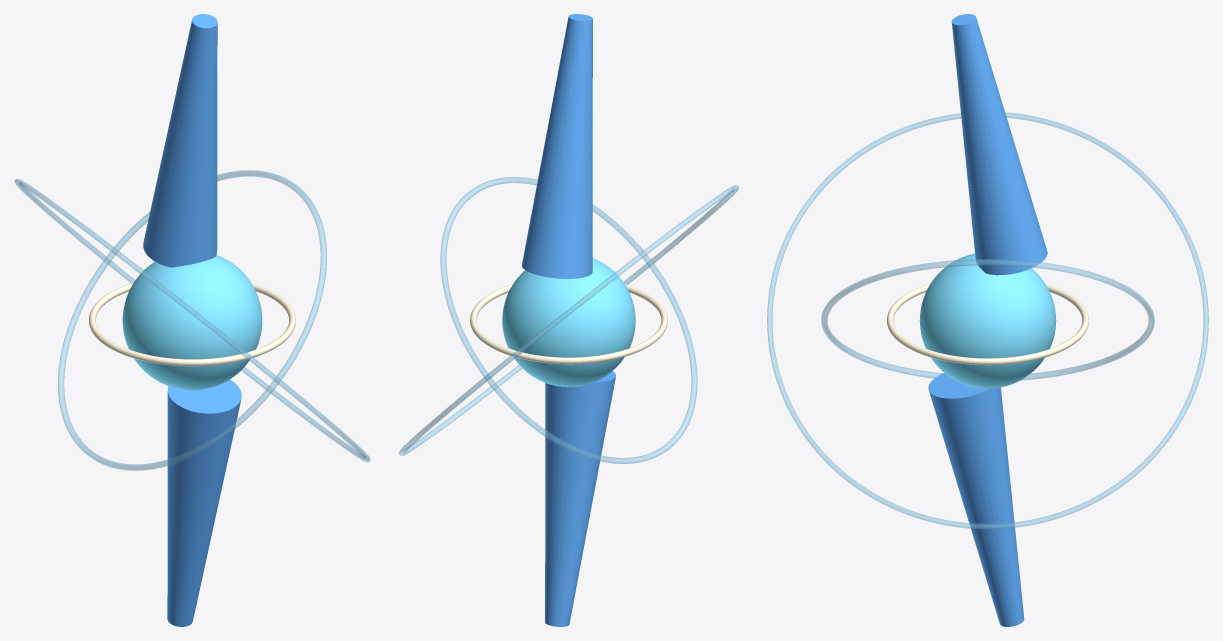
File: space-p1-neutron-star.glb
The picture shows the model from 3 angles, left to right: view 1: azimuth 30°, elevation 25°; view 2: azimuth 150°, elevation 25°; view 3: azimuth 270°, elevation 25°; orthographic projection. The views are drawn at different scales.
Parts seen in each view (by area): view 1: tiny-ultra-dense-neutron-core, north-pulsar-beam, south-pulsar-beam, magnetic-field-loop-one, magnetic-field-loop-two, rapid-spin-equator-ring; view 2: north-pulsar-beam, tiny-ultra-dense-neutron-core, south-pulsar-beam, magnetic-field-loop-one, magnetic-field-loop-two, rapid-spin-equator-ring; view 3: tiny-ultra-dense-neutron-core, north-pulsar-beam, south-pulsar-beam, magnetic-field-loop-two, magnetic-field-loop-one, rapid-spin-equator-ring.
Part boxes in pixels (x1,y1,x2,y2): tiny-ultra-dense-neutron-core: [122, 255, 262, 390]; north-pulsar-beam: [143, 14, 217, 267]; south-pulsar-beam: [167, 379, 241, 626]; magnetic-field-loop-one: [58, 170, 326, 470]; magnetic-field-loop-two: [14, 178, 370, 462]; rapid-spin-equator-ring: [89, 282, 295, 366]; north-pulsar-beam: [522, 14, 592, 278]; tiny-ultra-dense-neutron-core: [502, 258, 635, 387]; south-pulsar-beam: [545, 371, 615, 626]; magnetic-field-loop-one: [440, 177, 697, 463]; magnetic-field-loop-two: [399, 185, 738, 455]; rapid-spin-equator-ring: [470, 284, 667, 364]; tiny-ultra-dense-neutron-core: [919, 253, 1056, 388]; north-pulsar-beam: [951, 14, 1047, 275]; south-pulsar-beam: [928, 373, 1024, 626]; magnetic-field-loop-two: [767, 112, 1208, 529]; magnetic-field-loop-one: [821, 259, 1154, 380]; rapid-spin-equator-ring: [887, 283, 1088, 365].
Size of what is drawn, in the model's own units: 1.36 by 2.94 by 1.94.
